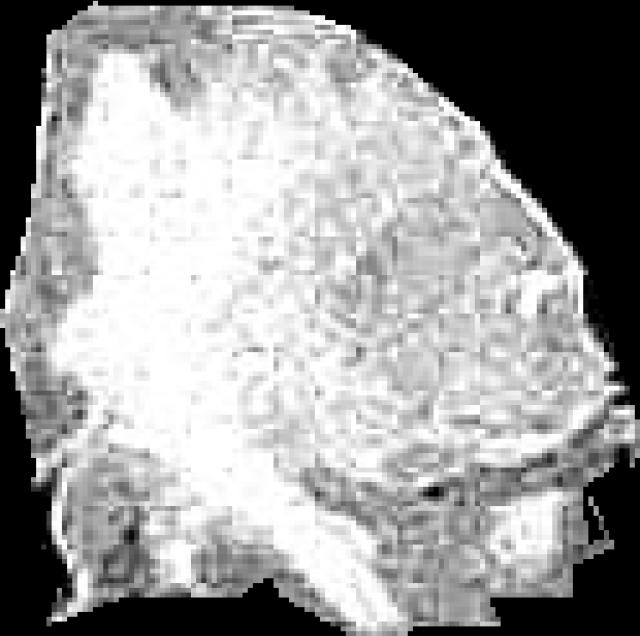tumor_moderate_chance: (0, 1, 640, 636)
